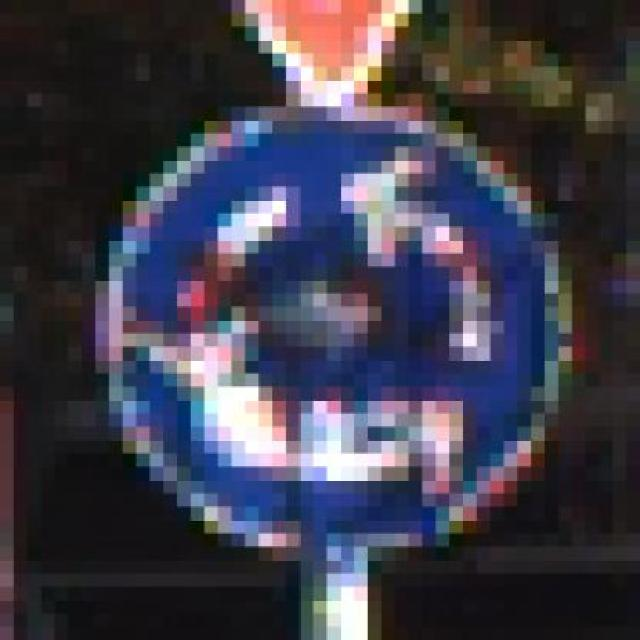Round-About: (68, 106, 600, 574)
